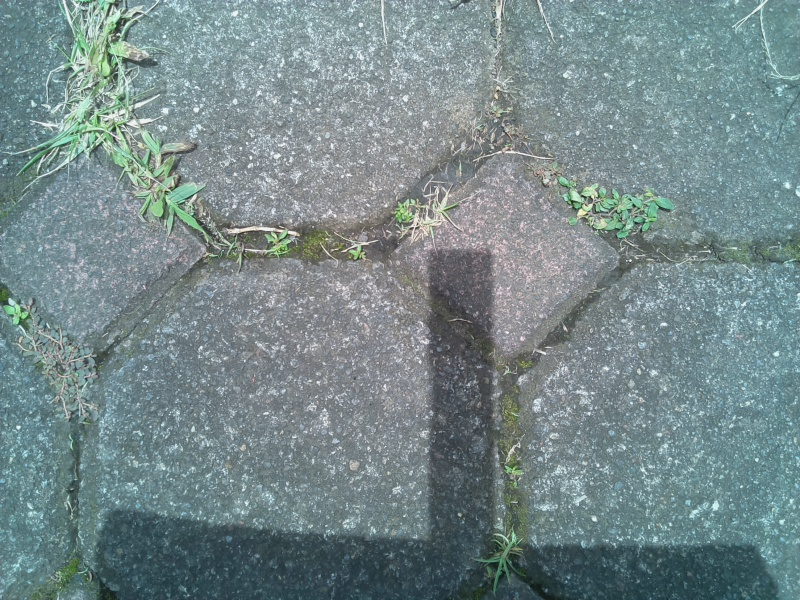Weed: (46, 3, 159, 98), (113, 136, 208, 241), (19, 323, 113, 426), (559, 175, 675, 251), (22, 95, 132, 175), (467, 527, 534, 595), (384, 187, 460, 244), (257, 222, 303, 274), (334, 230, 374, 272), (497, 455, 536, 496), (481, 93, 518, 135), (2, 294, 33, 328)
